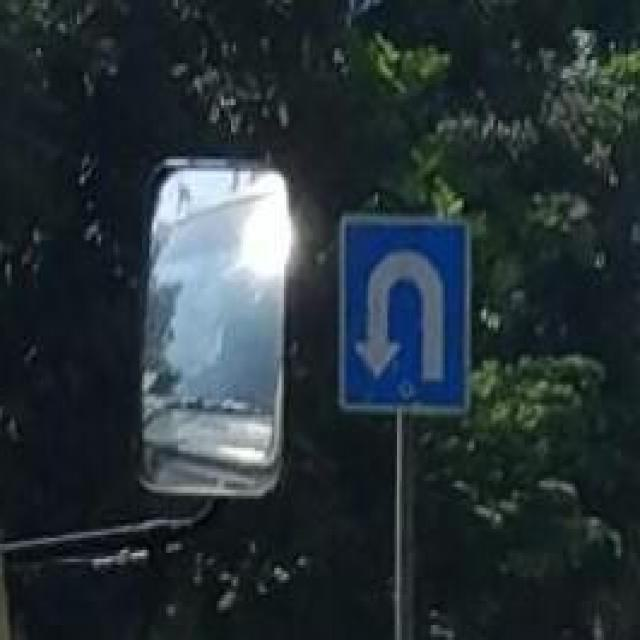U-turn: (342, 217, 466, 412)
